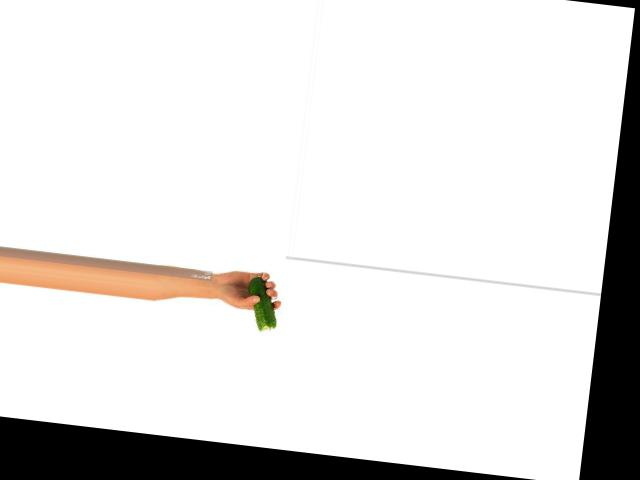cucumber: (243, 275, 280, 332)
